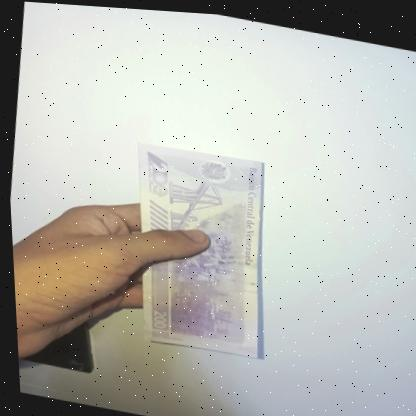two_hundred-back-vef: (110, 134, 278, 360)
